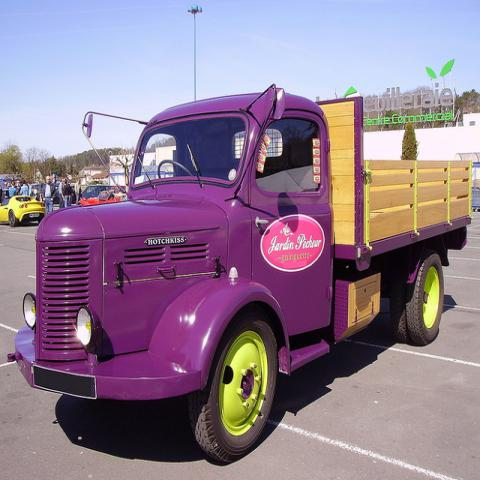car: (1, 196, 47, 227), (76, 192, 121, 206), (54, 186, 83, 204), (81, 185, 111, 199), (31, 182, 46, 195)
truck: (6, 88, 474, 465)
